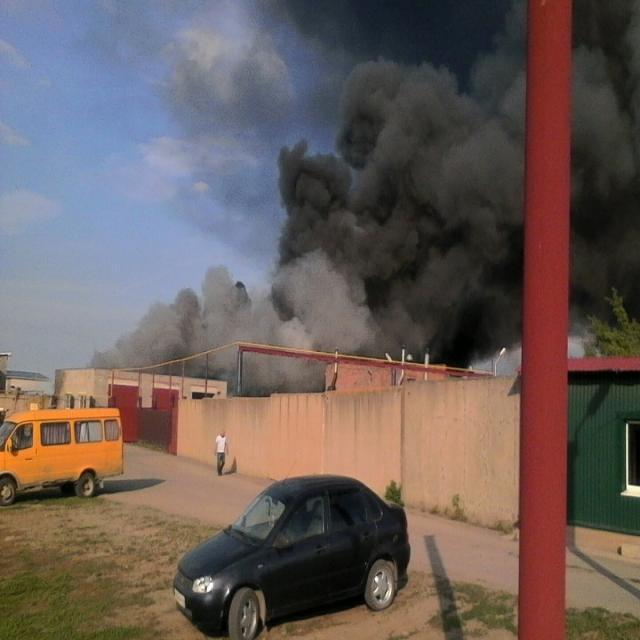Smoke: (272, 0, 524, 363), (88, 250, 374, 394), (573, 0, 640, 300)
